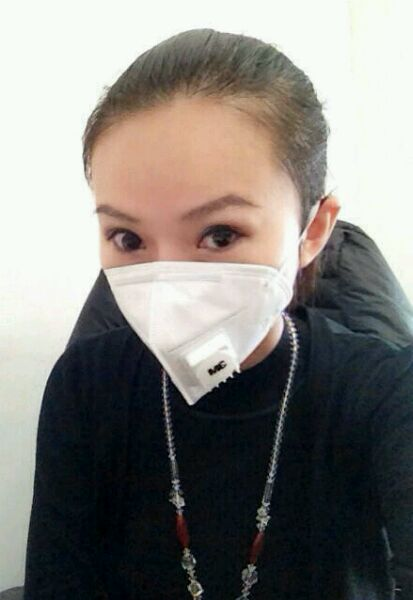face_mask: (90, 108, 293, 372)
